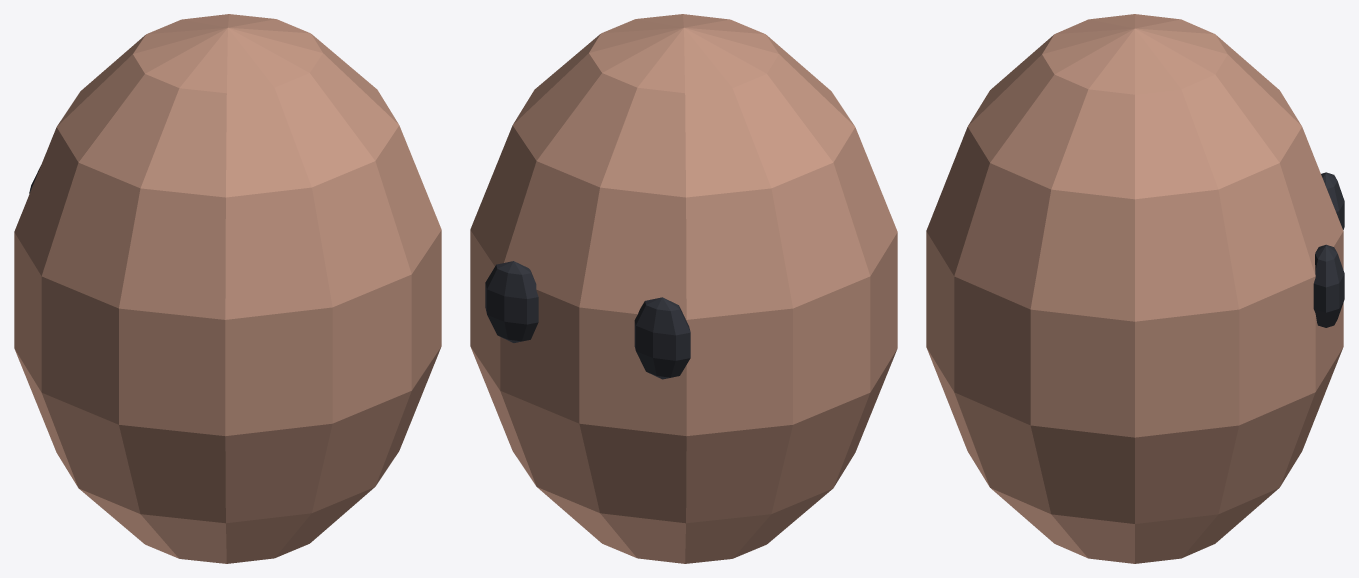
The model's file is gorehulk_b_head.obj.
3 renders of one model, left to right at view 1: azimuth 30°, elevation 25°; view 2: azimuth 150°, elevation 25°; view 3: azimuth 270°, elevation 25°, orthographic.
Visible parts, largest first — view 1: gorehulk_b_head; view 2: gorehulk_b_head; view 3: gorehulk_b_head.
Boxes of the visible parts, bbox=[...] form: gorehulk_b_head: bbox=[14, 14, 441, 563]; gorehulk_b_head: bbox=[470, 14, 897, 563]; gorehulk_b_head: bbox=[926, 14, 1344, 563].
Size of the model in its own units: 0.351 by 0.47 by 0.3422.
